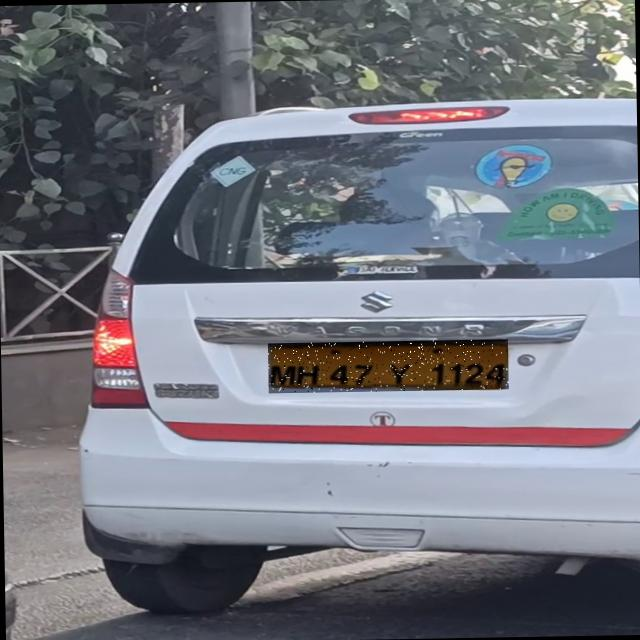Plate: (269, 340, 510, 394)
